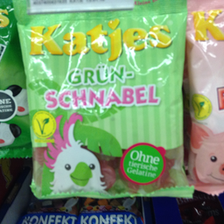candy: (13, 1, 186, 195)
